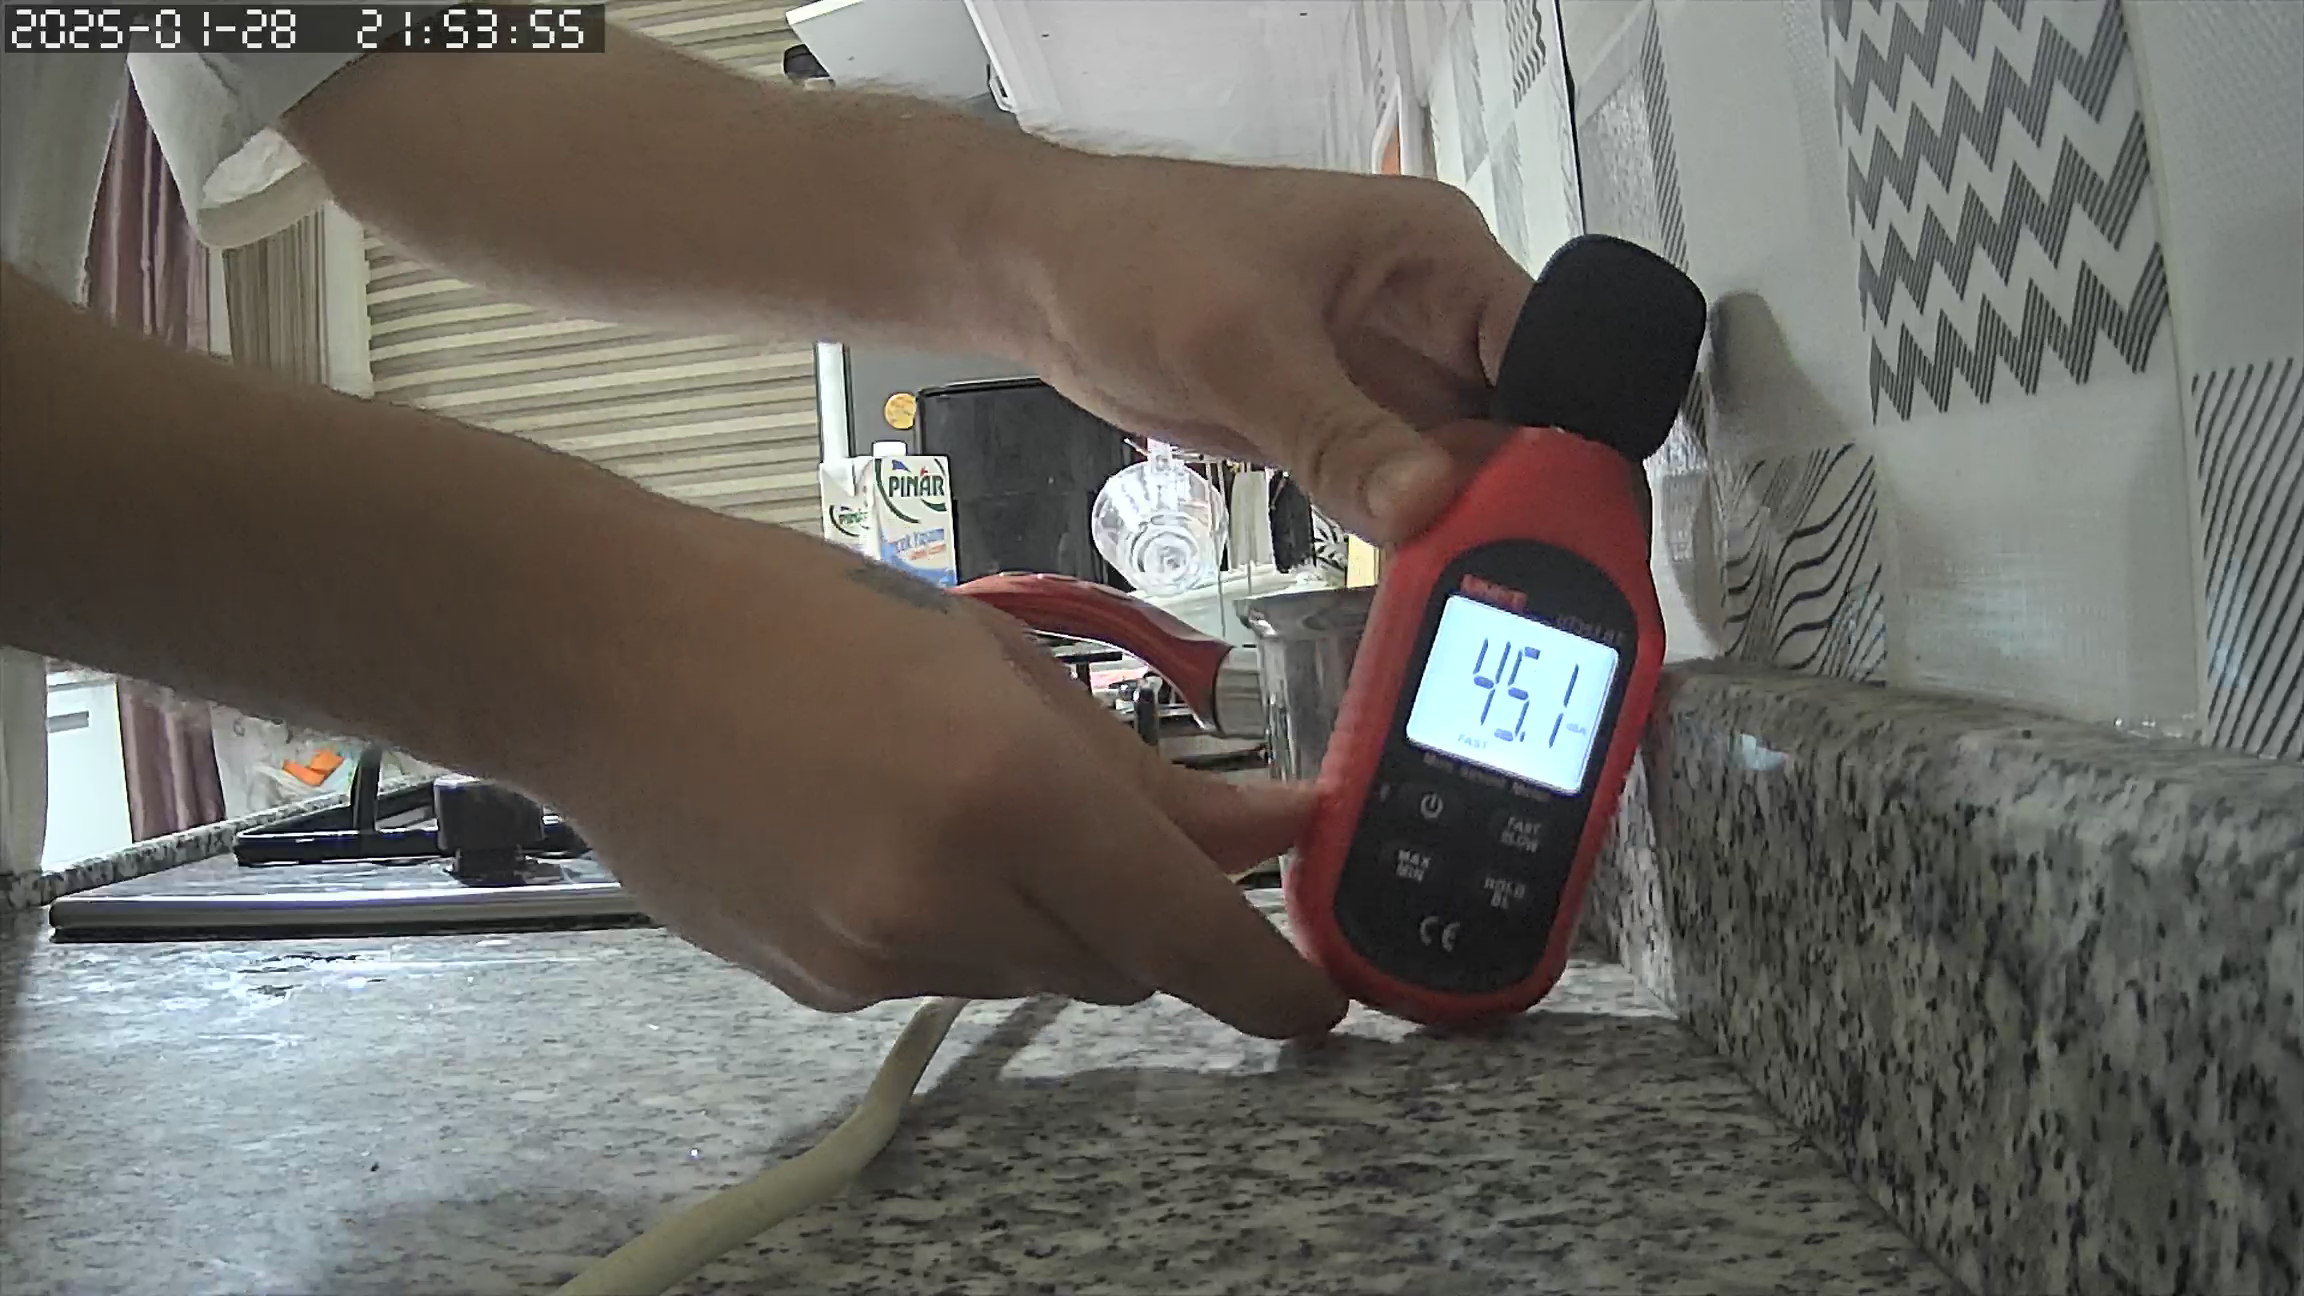screen: (1407, 593, 1616, 796)
